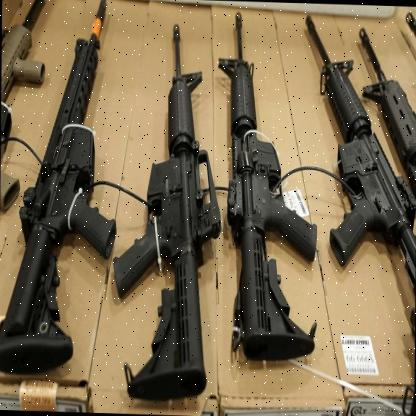rifle: (115, 21, 224, 405), (214, 3, 310, 364), (38, 0, 111, 381)
